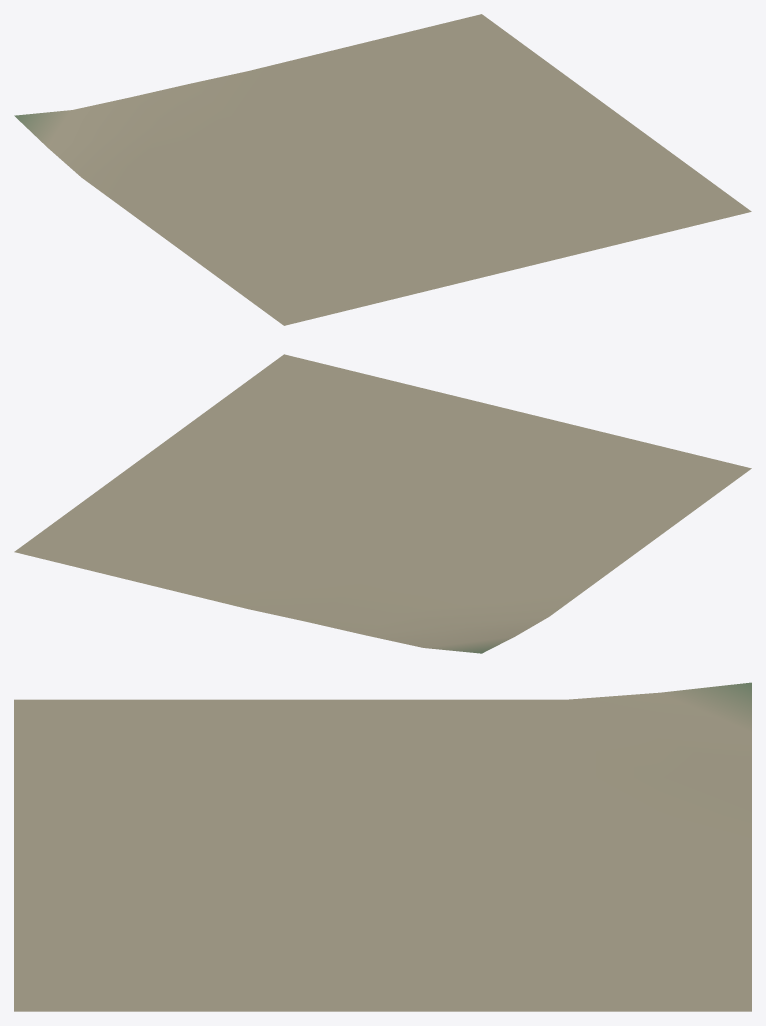
3 views of the same model, one above another, from view 1: azimuth 30°, elevation 25°; view 2: azimuth 150°, elevation 25°; view 3: azimuth 270°, elevation 25° (orthographic). The views are drawn at different scales.
Parts seen in each view (by area): view 1: Lo; view 2: Lo; view 3: Lo.
Part boxes in pixels (x1,y1,x2,y2): Lo: (14,14,751,325); Lo: (14,354,751,653); Lo: (14,682,751,1011).
Bounding box in the file's own units: 256 × 6.55 × 256.
